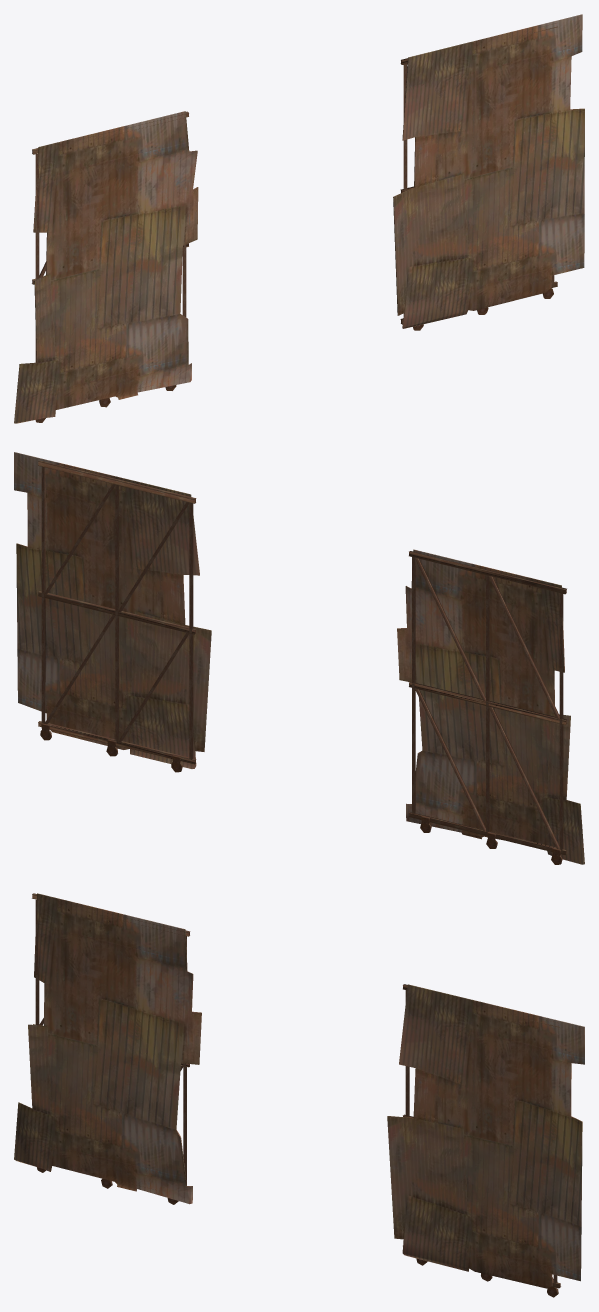
Rendered from wooden_building_f_barn_doors.glb.
The picture shows the model from 3 angles, top to bottom: view 1: azimuth 30°, elevation 25°; view 2: azimuth 150°, elevation 25°; view 3: azimuth 330°, elevation 25°; orthographic projection.
Parts seen in each view (by area): view 1: wooden_building_f_barn_doors_LOD0; view 2: wooden_building_f_barn_doors_LOD0; view 3: wooden_building_f_barn_doors_LOD0.
Part boxes in pixels (x1=…): wooden_building_f_barn_doors_LOD0: x1=14, y1=14, x2=584, y2=423; wooden_building_f_barn_doors_LOD0: x1=14, y1=452, x2=584, y2=864; wooden_building_f_barn_doors_LOD0: x1=14, y1=893, x2=584, y2=1297.
Bounding box in the file's own units: 12.44 × 5.81 × 0.2275.
Materials: 2 (2 with a texture image).
